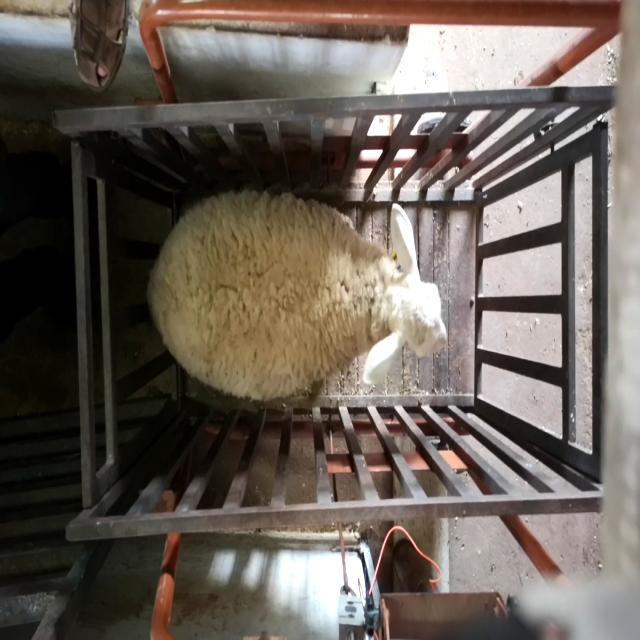sheep: (147, 190, 448, 402)
